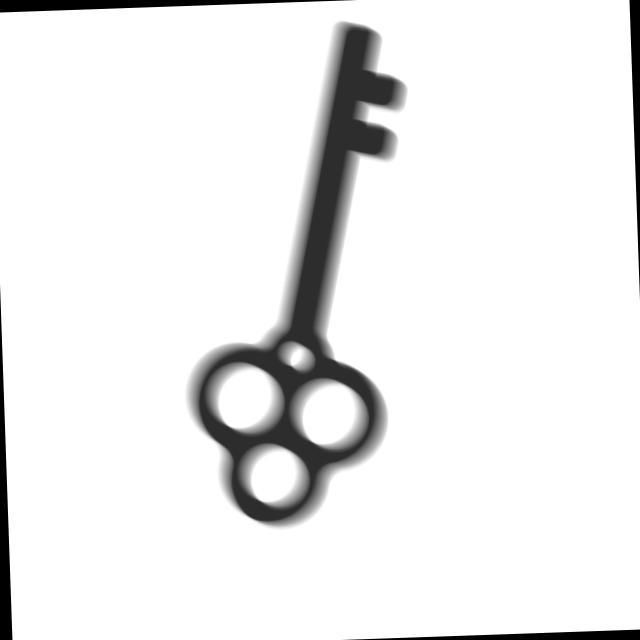key: (165, 8, 435, 534)
